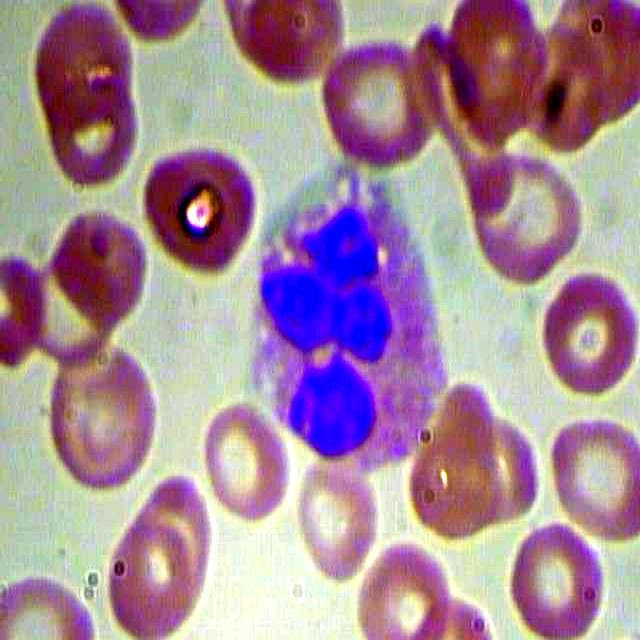RBC: (131, 133, 272, 284), (35, 338, 167, 491), (313, 41, 445, 167), (535, 265, 640, 416), (493, 513, 610, 640), (472, 152, 580, 284), (104, 510, 211, 640), (548, 413, 640, 548), (201, 400, 295, 523), (301, 462, 382, 586)
WBC: (236, 168, 453, 473)
